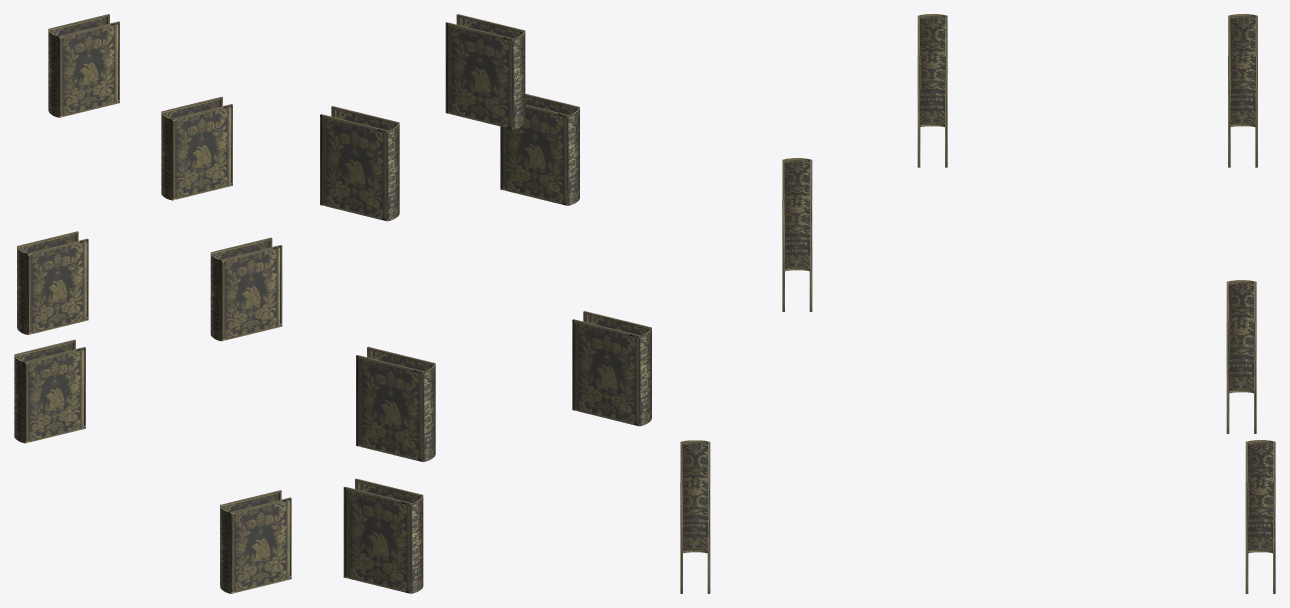
Rendered from book005Scaffale.fbx.
3 views of the same model, side by side, from view 1: azimuth 30°, elevation 25°; view 2: azimuth 150°, elevation 25°; view 3: azimuth 270°, elevation 25° (orthographic). The views are drawn at different scales.
Visible parts, largest first — view 1: Cube.056_book.005_0; view 2: Cube.056_book.005_0; view 3: Cube.056_book.005_0.
Part boxes in pixels (x1,y1,x2,y2): Cube.056_book.005_0: [14, 14, 291, 593]; Cube.056_book.005_0: [320, 14, 651, 593]; Cube.056_book.005_0: [680, 14, 1275, 593].
Bounding box in the file's own units: 42.86 × 174 × 169.
